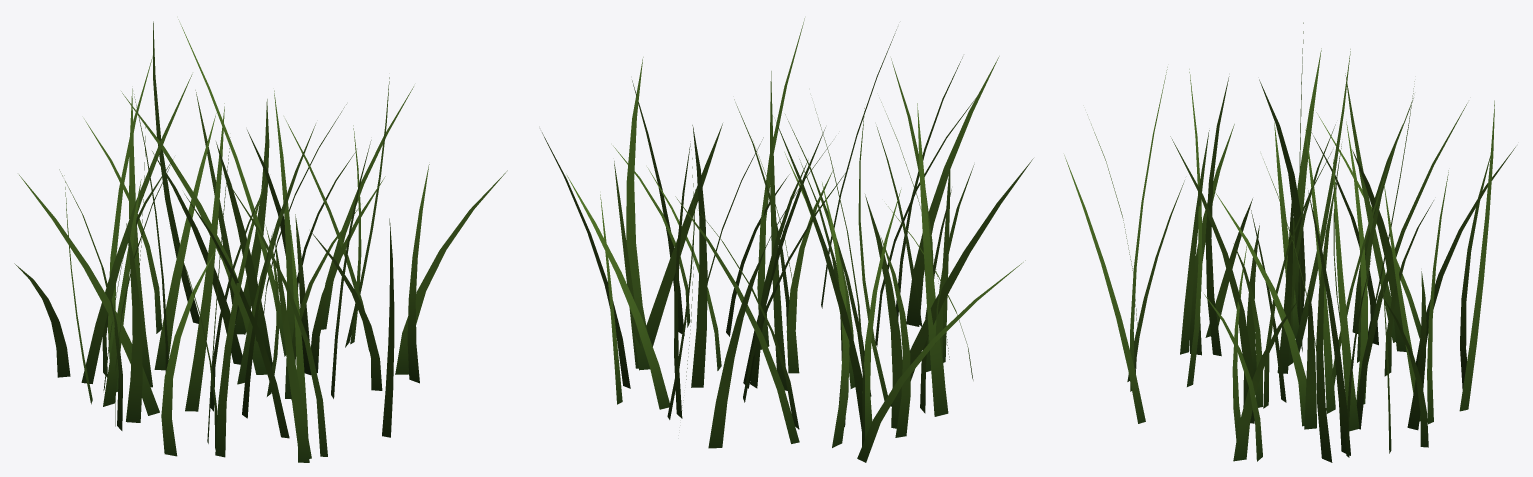
The model's file is tuft_0_lod0.glb.
3 views of the same model, side by side, from view 1: azimuth 30°, elevation 25°; view 2: azimuth 150°, elevation 25°; view 3: azimuth 270°, elevation 25° (orthographic). The views are drawn at different scales.
Parts seen in each view (by area): view 1: GrassTuft_0_LOD0; view 2: GrassTuft_0_LOD0; view 3: GrassTuft_0_LOD0.
Part boxes in pixels (x1=…): GrassTuft_0_LOD0: x1=14, y1=19, x2=507, y2=462; GrassTuft_0_LOD0: x1=542, y1=18, x2=1033, y2=462; GrassTuft_0_LOD0: x1=1064, y1=22, x2=1515, y2=462.
Size of the model in its own units: 0.426 by 0.2893 by 0.3875.
